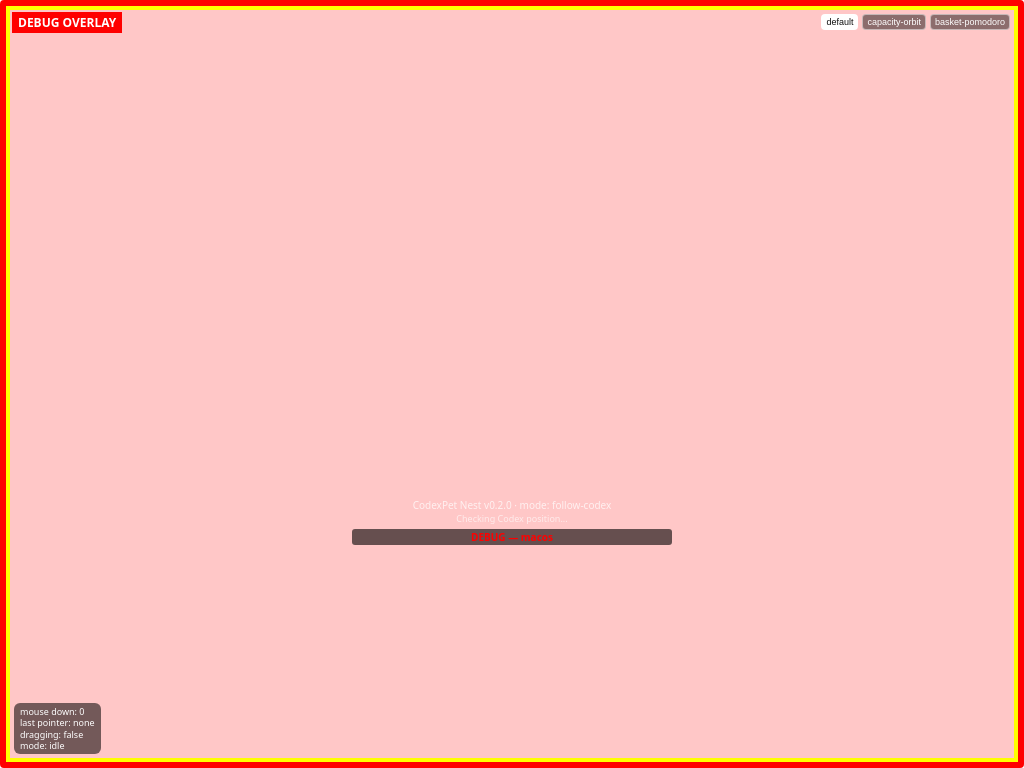
it: OverlayApp › should keep debug nest controls while showing the local companion
Click the button "capacity-orbit" at [894, 22], box [862,14,926,30]
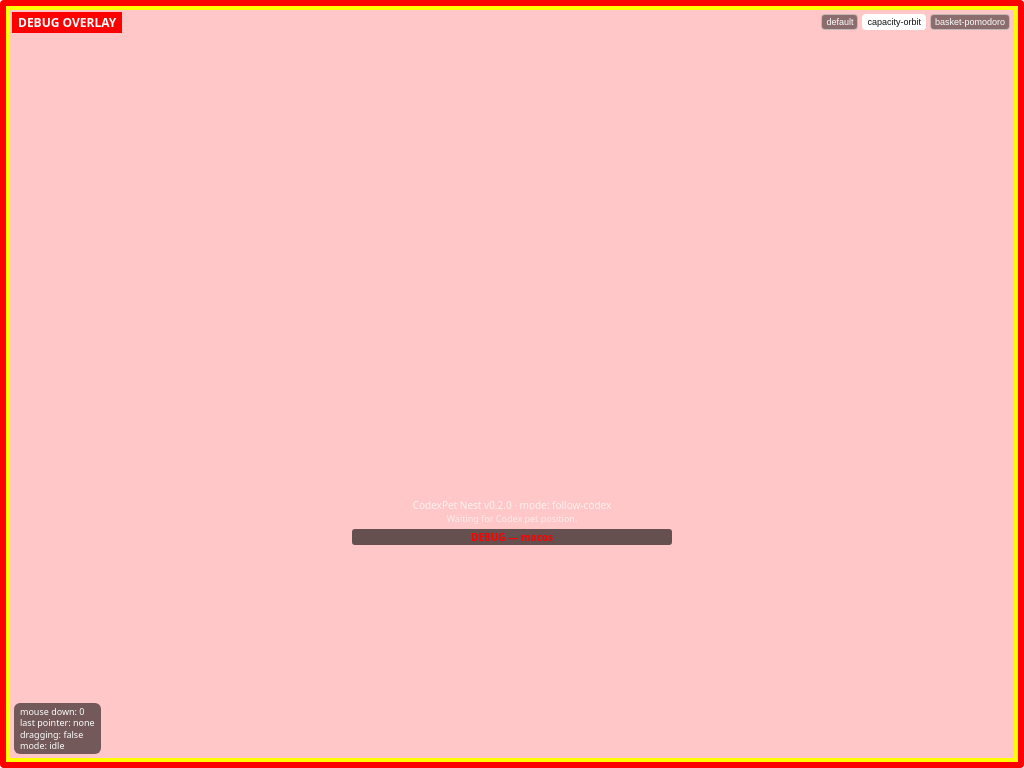
Result: the text "Waiting for Codex pet position." is shown at [447,512,577,524]
